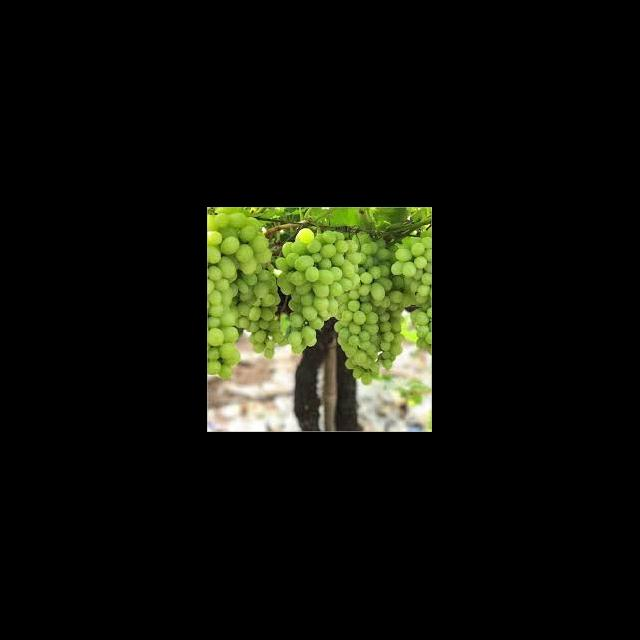grape: (208, 208, 432, 386)
